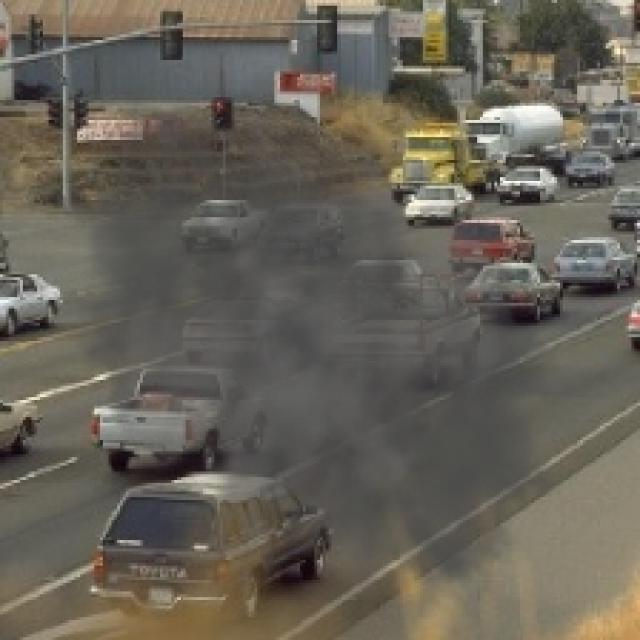Smoke: (28, 65, 594, 626)
